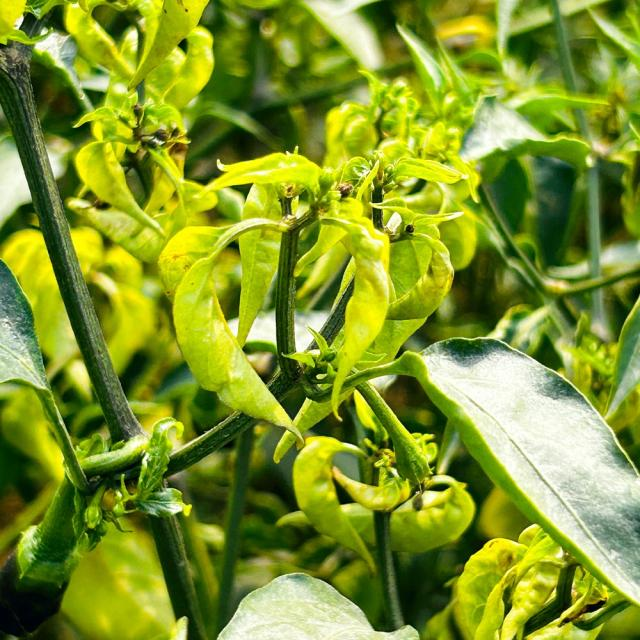Chilli_Leaf_Curl: (1, 1, 638, 637), (158, 140, 465, 464), (397, 334, 639, 608), (160, 223, 307, 461), (0, 256, 92, 494), (215, 571, 419, 638)
